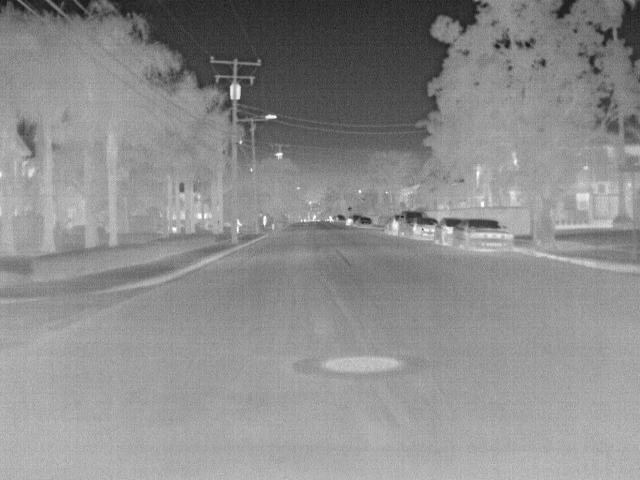car: (452, 218, 515, 252), (434, 218, 467, 246), (399, 210, 424, 236), (413, 219, 443, 239), (383, 214, 402, 236), (354, 216, 373, 228), (347, 214, 362, 226), (333, 214, 347, 224)
person: (235, 218, 243, 236), (261, 213, 269, 228)
